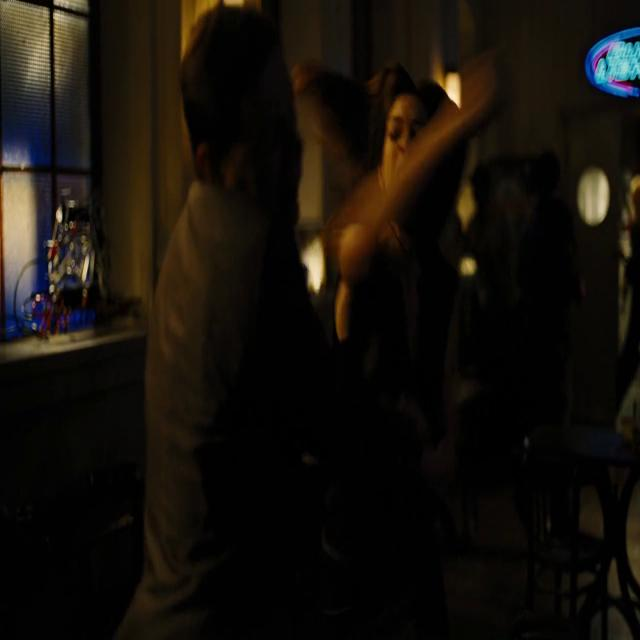People: (103, 22, 333, 618), (343, 35, 495, 378)
